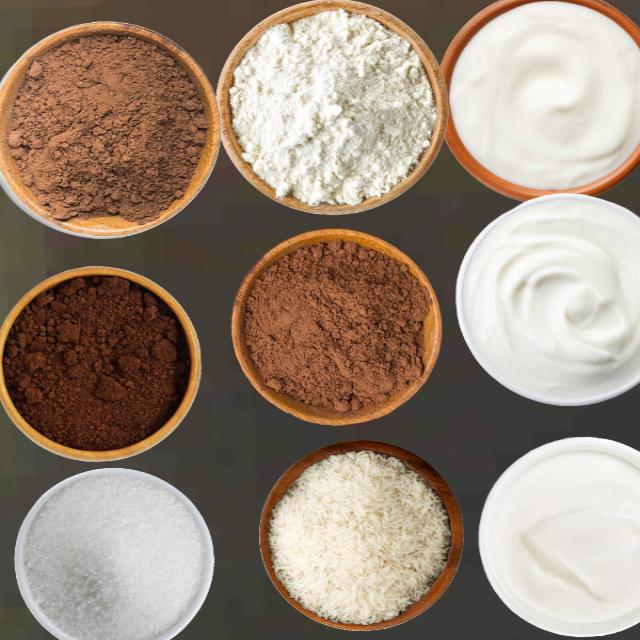Cocoa: (0, 22, 216, 235), (242, 237, 430, 415)
Coffee: (1, 271, 190, 452)
Flour: (228, 6, 436, 206)
Sugar: (16, 468, 211, 639)
